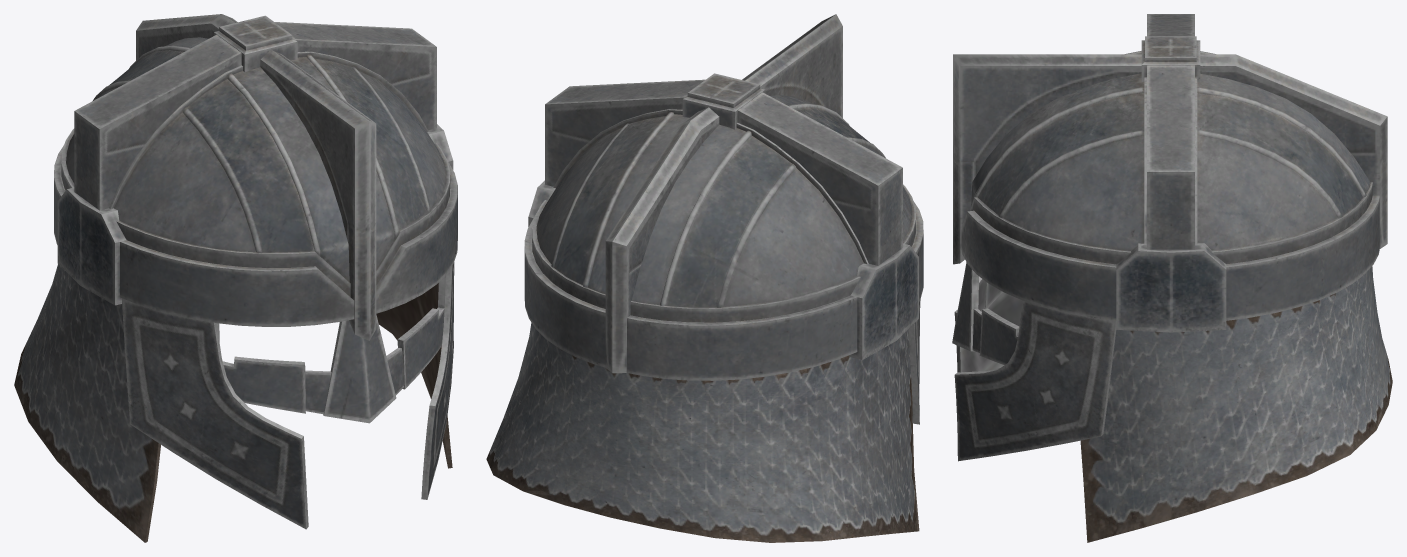
The model's file is sk_dwarf_erebor_helmet_plate_med_b.fbx.
3 renders of one model, left to right at view 1: azimuth 30°, elevation 25°; view 2: azimuth 150°, elevation 25°; view 3: azimuth 270°, elevation 25°, orthographic. The views are drawn at different scales.
Parts seen in each view (by area): view 1: sk_dwarf_erebor_helmet_plate_med_b.1, sk_dwarf_erebor_helmet_plate_med_b.0; view 2: sk_dwarf_erebor_helmet_plate_med_b.1, sk_dwarf_erebor_helmet_plate_med_b.0; view 3: sk_dwarf_erebor_helmet_plate_med_b.1, sk_dwarf_erebor_helmet_plate_med_b.0.
Part boxes in pixels (x1,y1,x2,y2): sk_dwarf_erebor_helmet_plate_med_b.1: [54, 14, 457, 423]; sk_dwarf_erebor_helmet_plate_med_b.0: [14, 262, 454, 542]; sk_dwarf_erebor_helmet_plate_med_b.1: [524, 14, 923, 380]; sk_dwarf_erebor_helmet_plate_med_b.0: [486, 299, 920, 542]; sk_dwarf_erebor_helmet_plate_med_b.1: [952, 14, 1387, 364]; sk_dwarf_erebor_helmet_plate_med_b.0: [954, 266, 1392, 542].
Size of the model in its own units: 0.2777 by 0.3 by 0.319.
